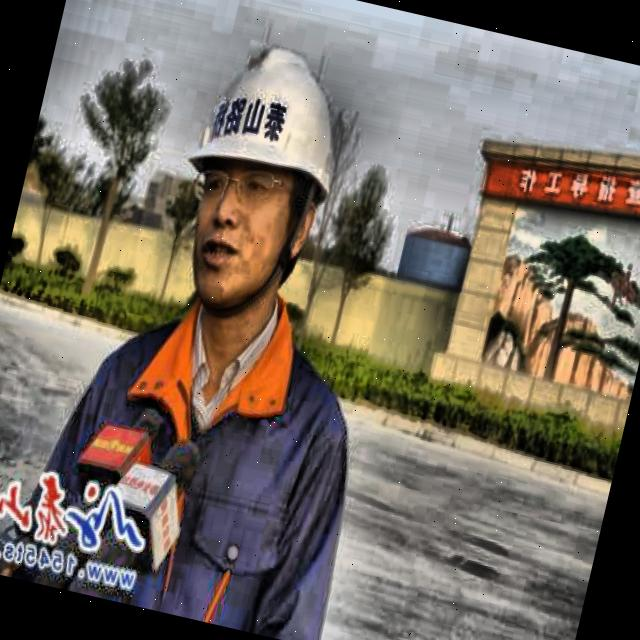helmet: (134, 0, 387, 352)
